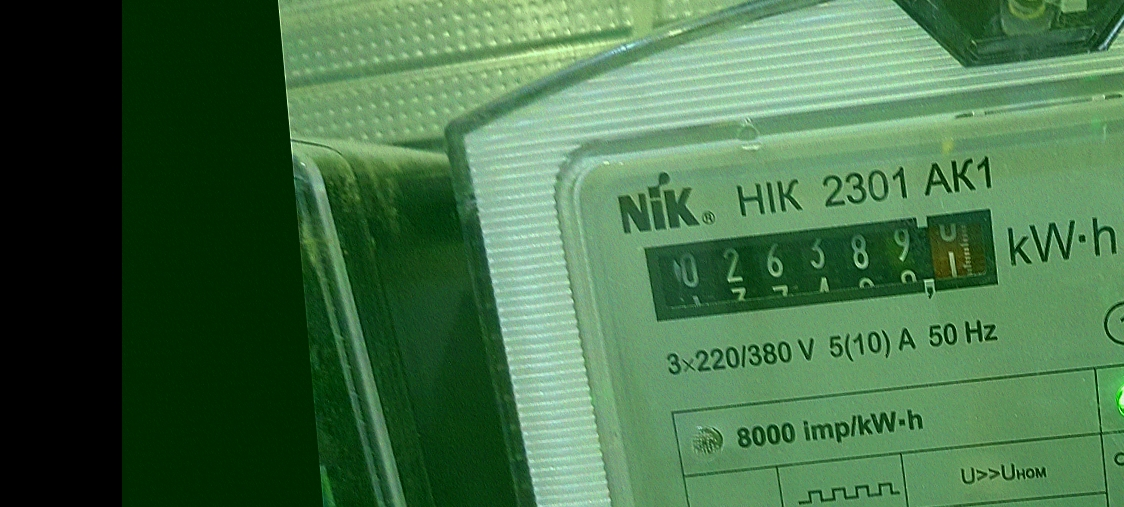0: (676, 248, 703, 289), (938, 220, 959, 242)
1: (945, 247, 961, 279)
2: (720, 243, 747, 284)
3: (807, 235, 827, 271)
6: (764, 238, 785, 279)
8: (849, 230, 873, 270)
9: (892, 226, 913, 261)
screen: (629, 195, 1016, 334)
